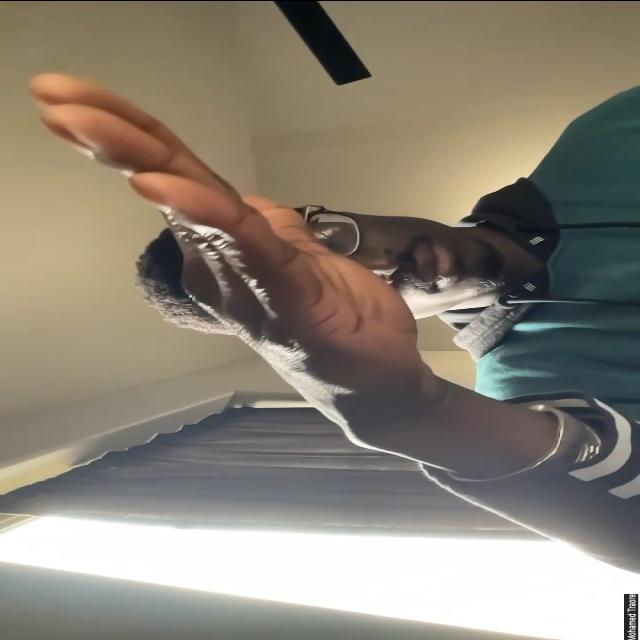Paper: (26, 70, 432, 442)
